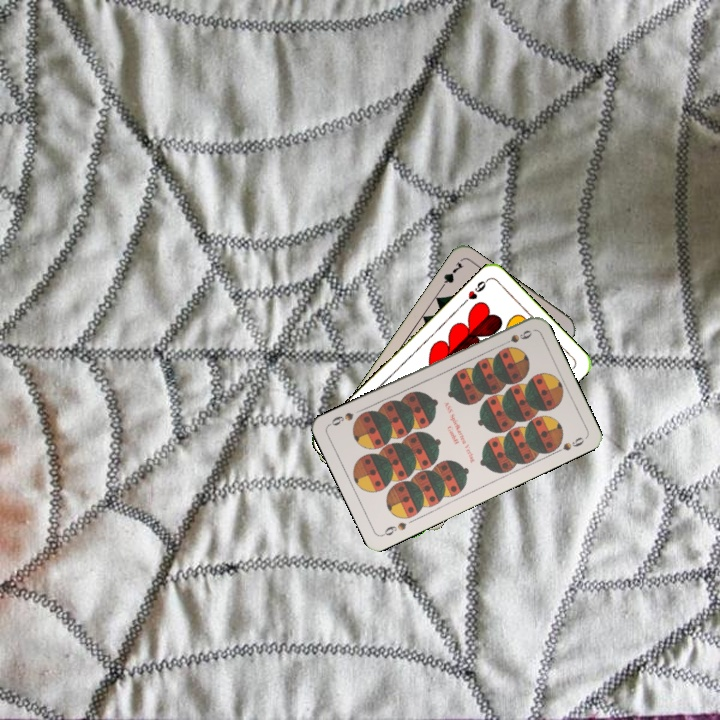G7: (435, 258, 466, 293)
H9: (458, 275, 491, 307)
S9: (496, 326, 535, 349), (378, 518, 409, 539)
